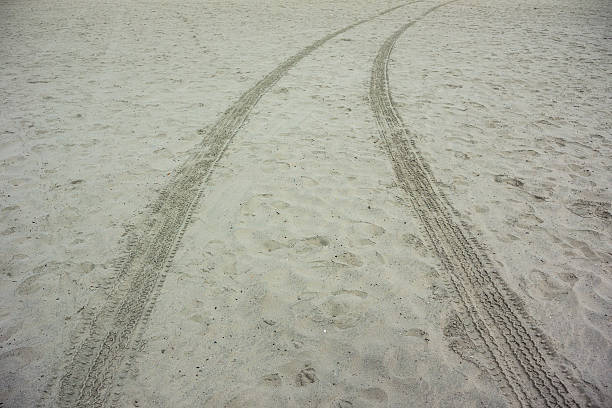vehicle_track: (53, 2, 409, 406), (369, 0, 592, 406)
